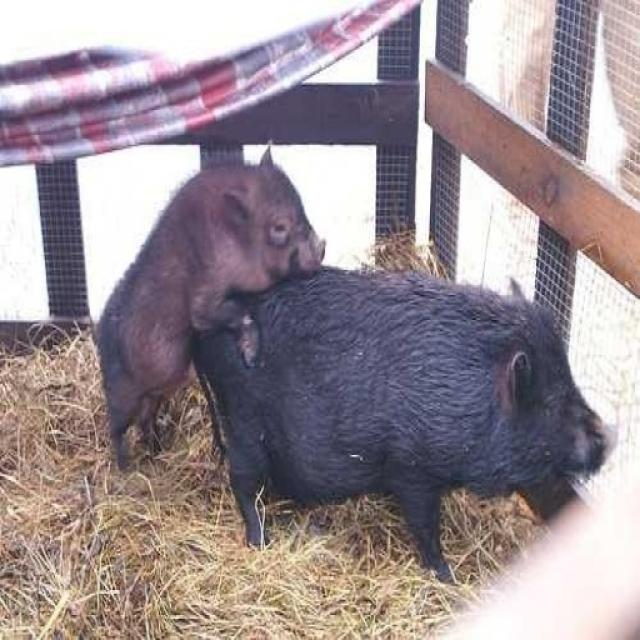pig: (184, 217, 640, 640)
